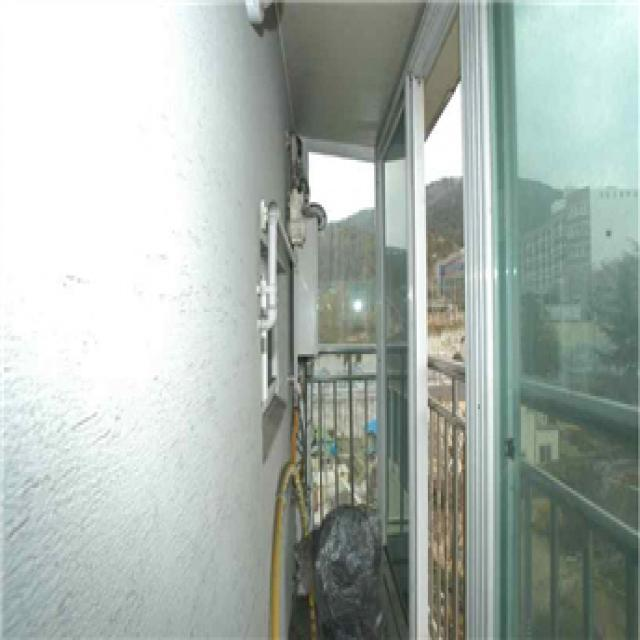Boiler: (276, 200, 332, 380)
